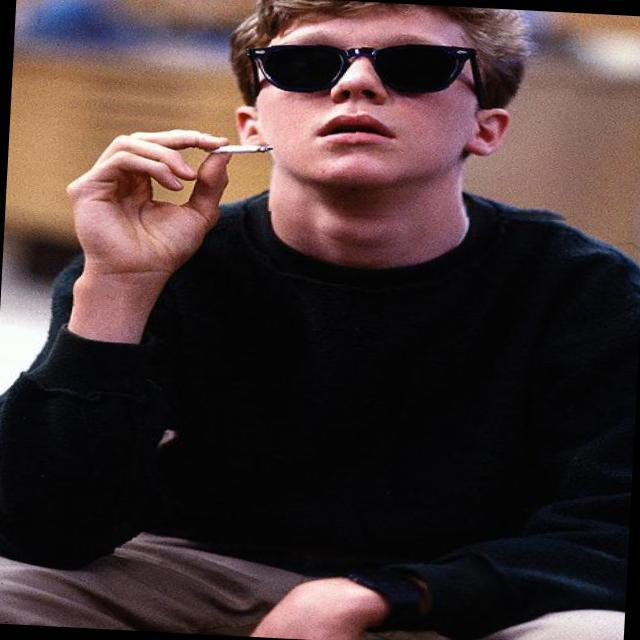cigarette: (184, 134, 290, 160)
